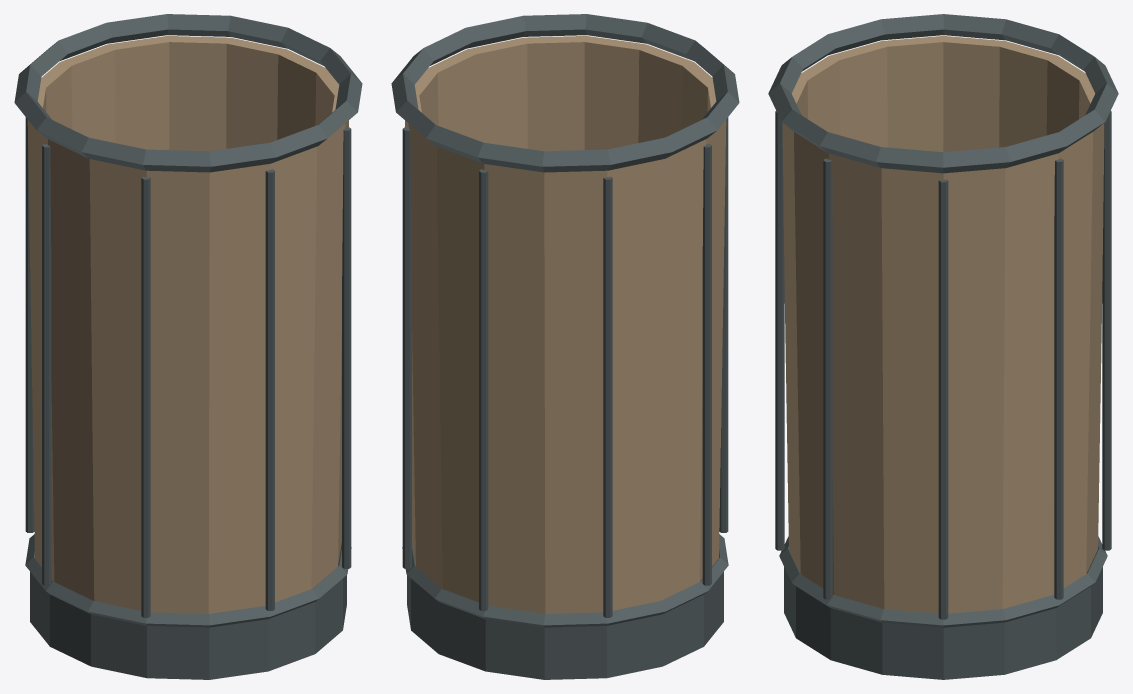
Rendered from public_round_bin.fbx.
3 renders of one model, left to right at view 1: azimuth 30°, elevation 25°; view 2: azimuth 150°, elevation 25°; view 3: azimuth 270°, elevation 25°, orthographic.
Parts seen in each view (by area): view 1: public_round_bin; view 2: public_round_bin; view 3: public_round_bin.
Part boxes in pixels (x1,y1,x2,y2): public_round_bin: (14, 14, 362, 679); public_round_bin: (391, 14, 739, 679); public_round_bin: (768, 14, 1118, 679).
Bounding box in the file's own units: 0.45 × 0.75 × 0.45.
